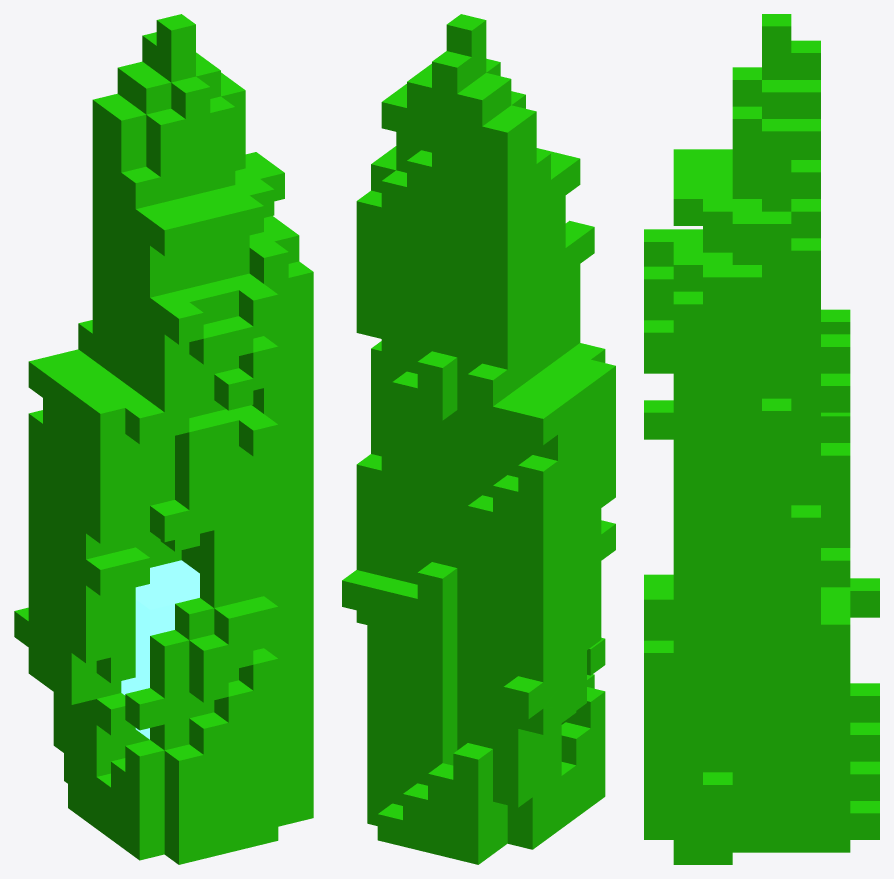
The model's file is JeanneCristal.glb.
The picture shows the model from 3 angles, left to right: view 1: azimuth 30°, elevation 25°; view 2: azimuth 150°, elevation 25°; view 3: azimuth 270°, elevation 25°; orthographic projection. The views are drawn at different scales.
Visible parts, largest first — view 1: ObjObject.001; view 2: ObjObject.001; view 3: ObjObject.001.
Part boxes in pixels (box(x1,y1,x2,y2)): ObjObject.001: box(14, 14, 313, 864); ObjObject.001: box(342, 14, 615, 864); ObjObject.001: box(644, 14, 879, 864).
Bounding box in the file's own units: 0.8 × 3 × 0.8.
